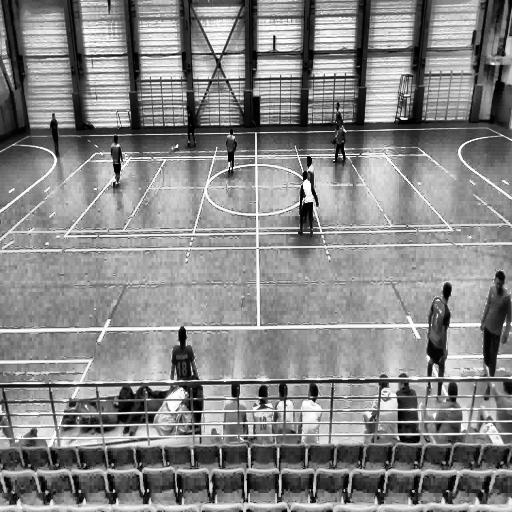ball: (174, 142, 180, 152)
player: (425, 279, 452, 394), (296, 173, 320, 246), (109, 134, 124, 190), (303, 156, 315, 226), (225, 128, 238, 180), (185, 104, 198, 154), (49, 111, 62, 160), (334, 121, 347, 167), (330, 99, 342, 145)
